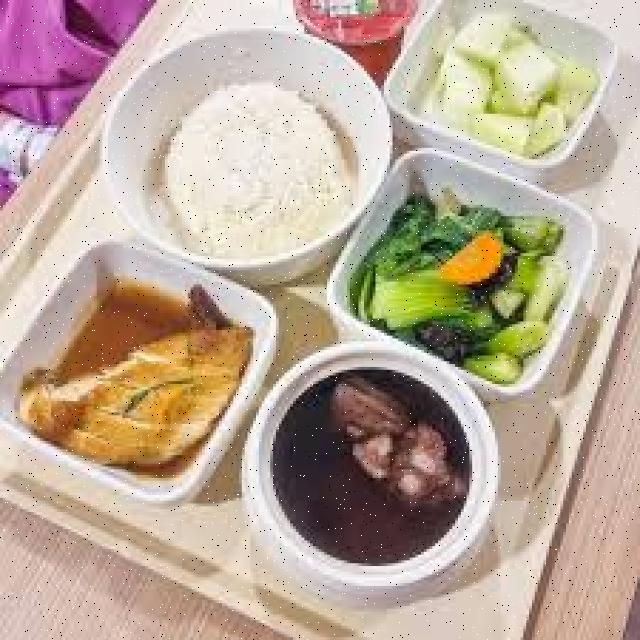Chicken: (20, 324, 250, 464)
Fruits: (424, 14, 597, 154)
Green veg: (350, 188, 566, 384)
Pork: (333, 375, 464, 503)
Rice: (165, 82, 353, 259)
